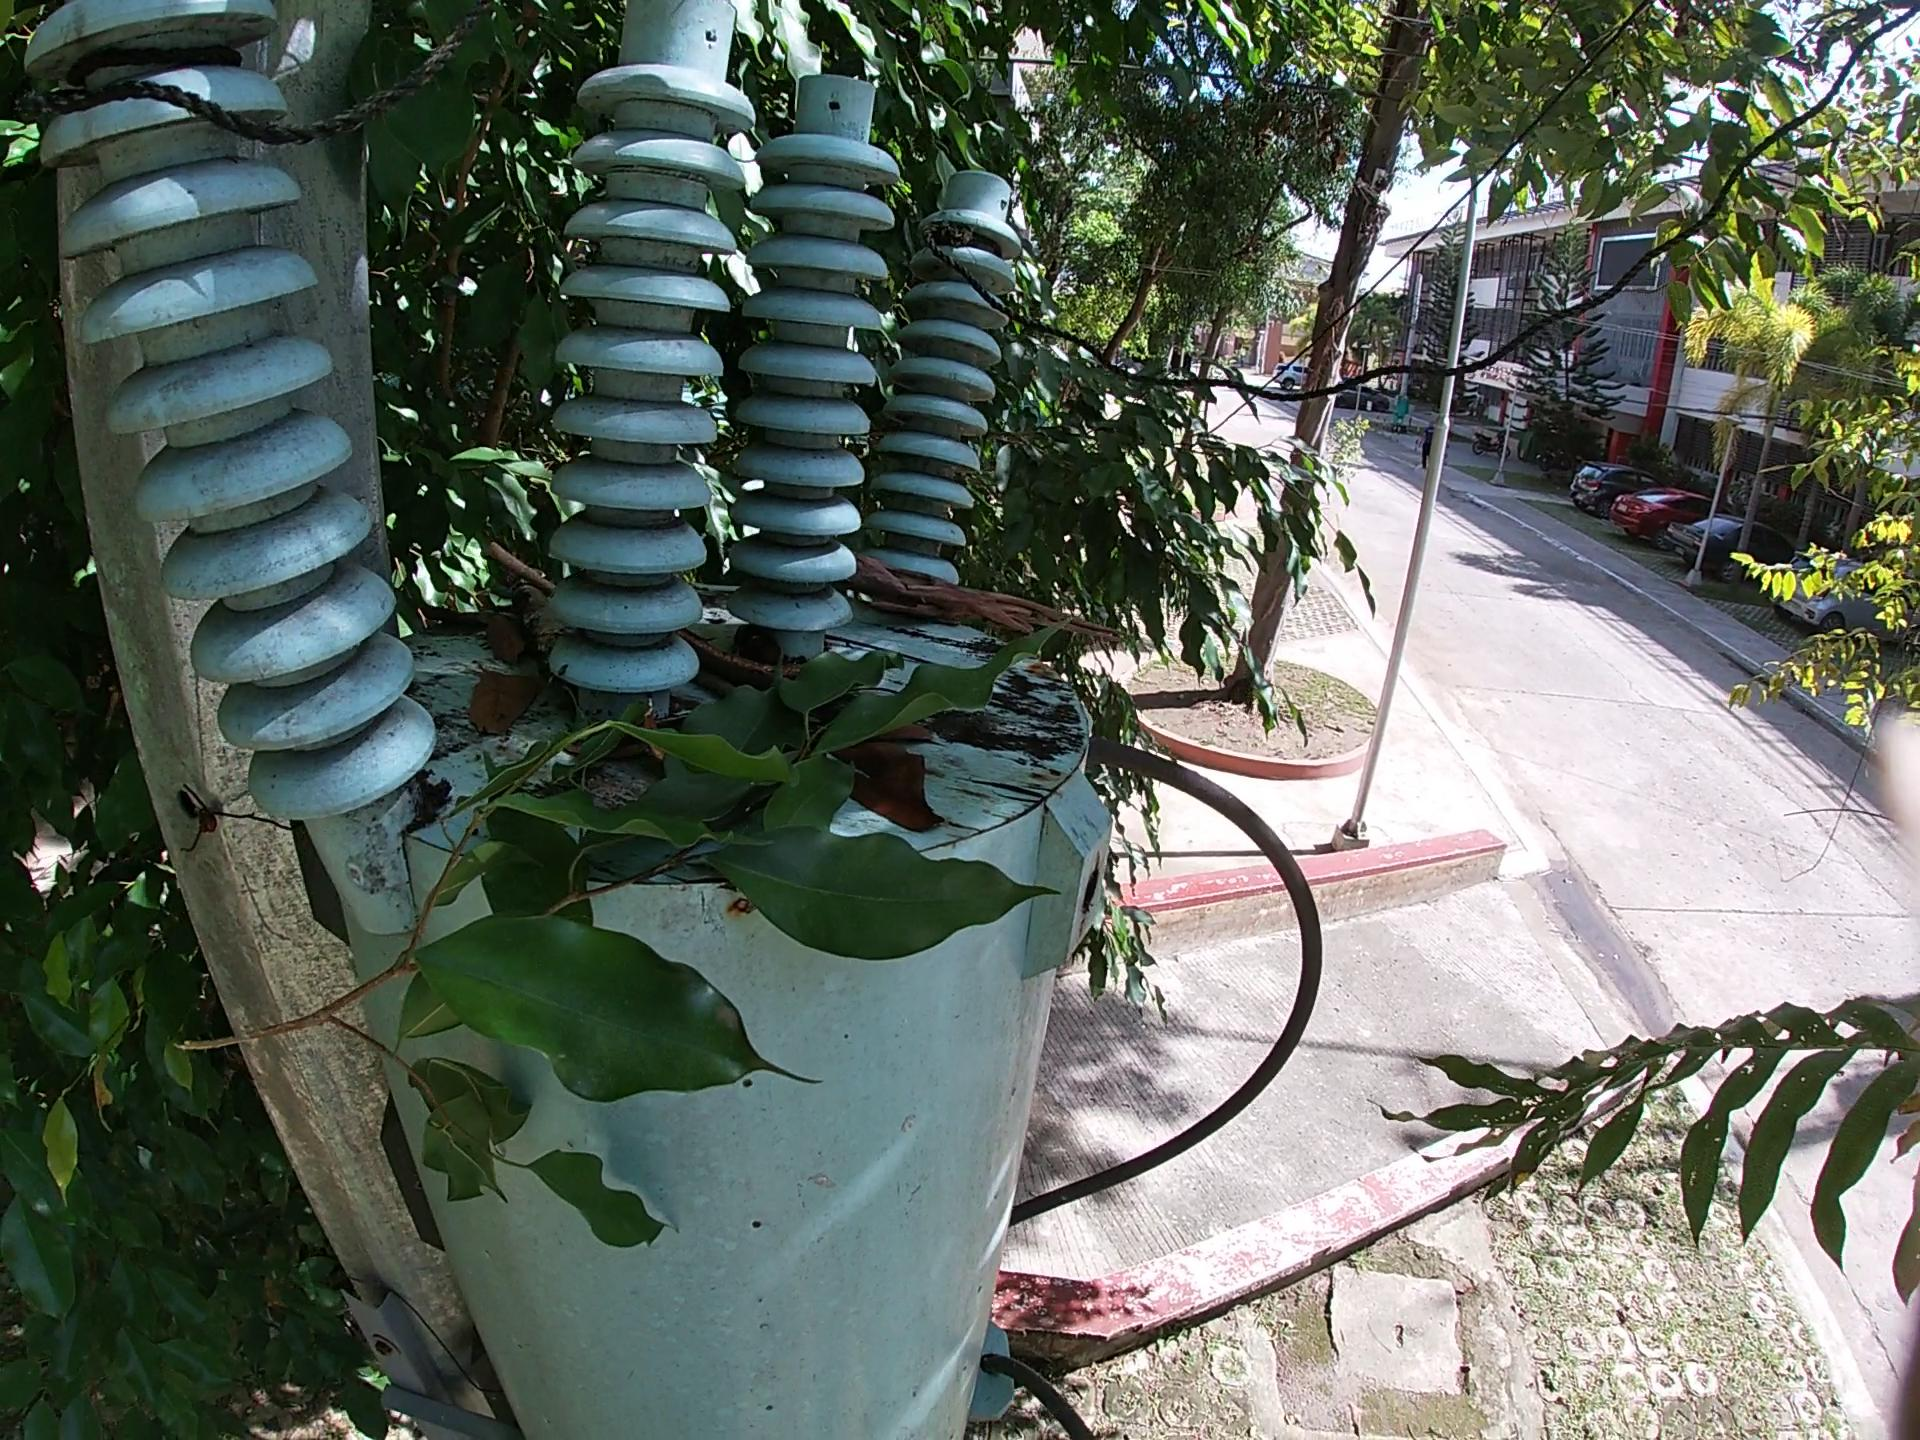branch with leaves: (172, 613, 1082, 1246)
leaf: (461, 656, 543, 746), (844, 774, 945, 839), (839, 735, 937, 802), (475, 602, 537, 673), (866, 725, 937, 746)
mahogany fruit: (686, 628, 806, 693)
tree branch: (844, 549, 1134, 656), (481, 535, 558, 601)
